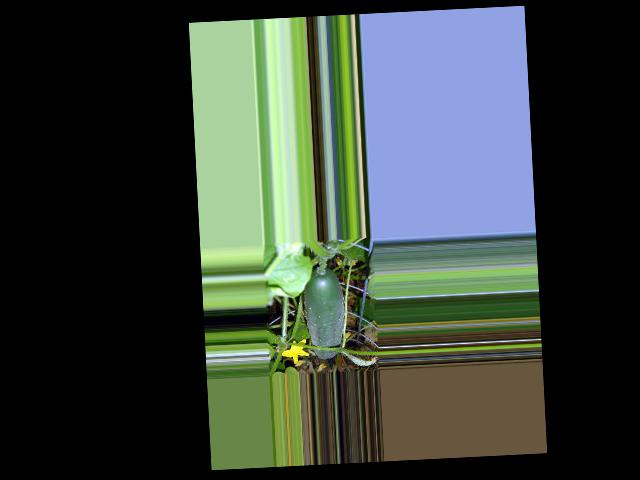cucumber: (303, 266, 347, 359)
